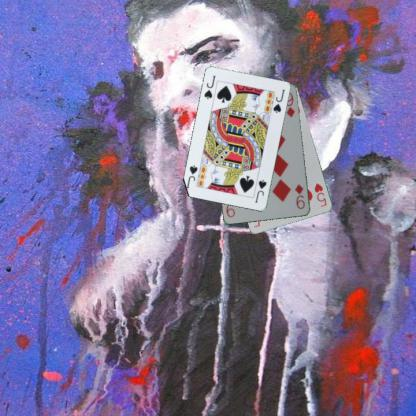5h: (312, 180, 328, 208)
9d: (292, 182, 307, 210)
Js: (202, 73, 217, 100), (253, 178, 268, 204)
